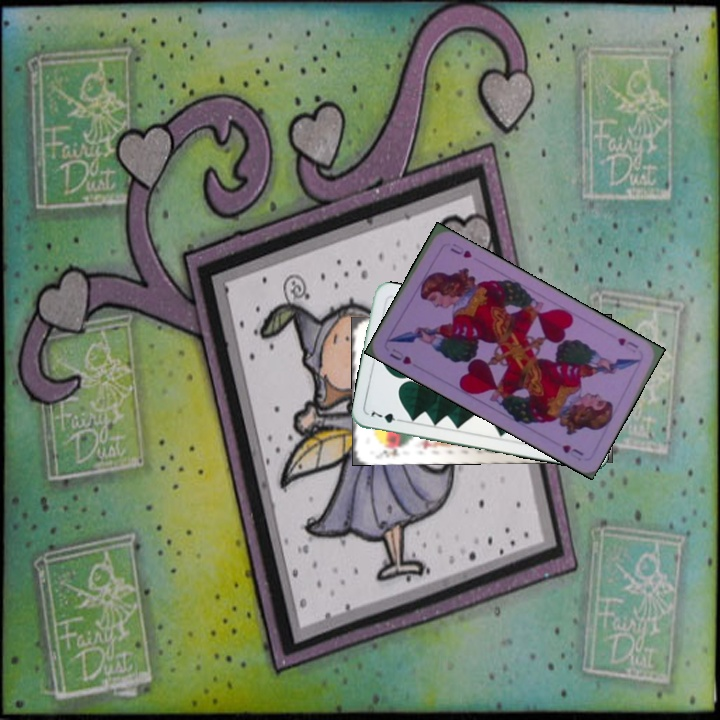G7: (367, 407, 406, 426)
HU: (385, 344, 414, 367), (614, 333, 641, 355)
SK: (374, 444, 402, 460)
